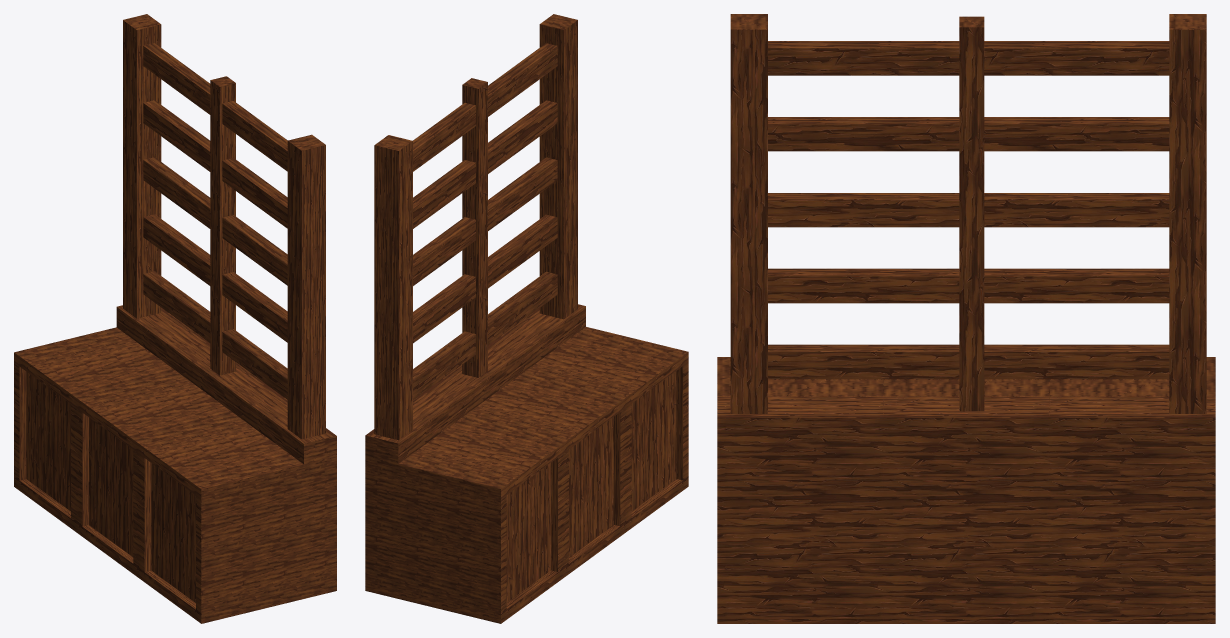
The model's file is Shelf 2.fbx.
The picture shows the model from 3 angles, left to right: view 1: azimuth 30°, elevation 25°; view 2: azimuth 150°, elevation 25°; view 3: azimuth 270°, elevation 25°; orthographic projection. The views are drawn at different scales.
Visible parts, largest first — view 1: Cube.094; view 2: Cube.094; view 3: Cube.094.
Boxes of the visible parts, bbox=[...] form: Cube.094: bbox=[14, 14, 336, 623]; Cube.094: bbox=[365, 14, 688, 623]; Cube.094: bbox=[717, 14, 1215, 623].
Bounding box in the file's own units: 83.44 × 261 × 200.
1 material, 1 textured.
